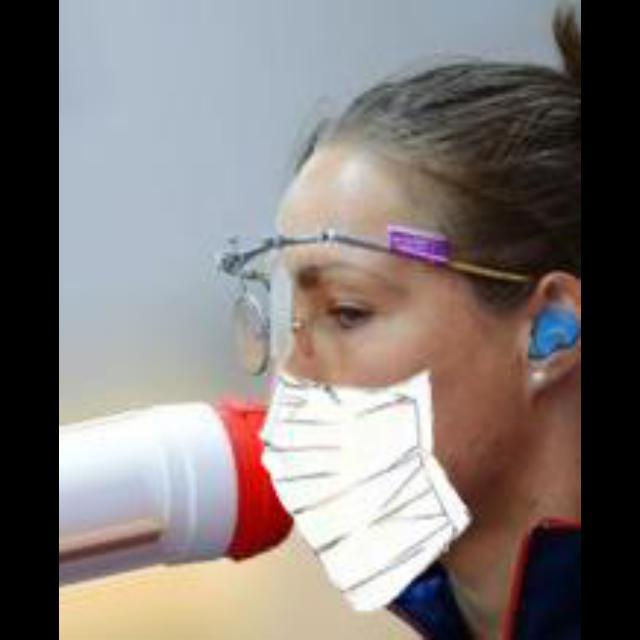suspicion: (240, 126, 564, 542)
